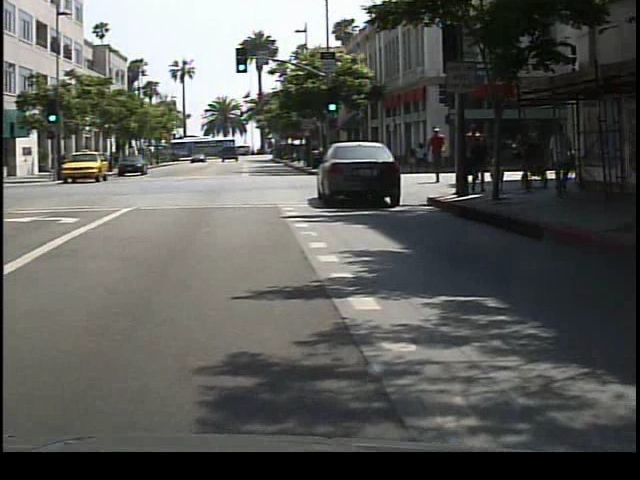person: (428, 126, 454, 188)
